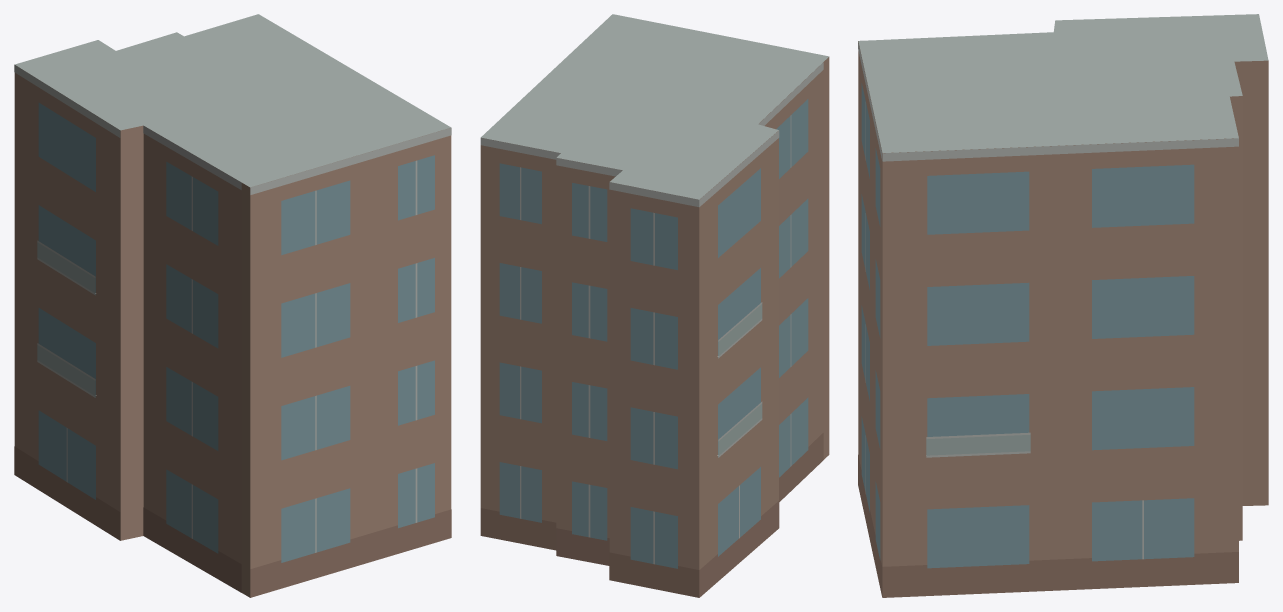
The model's file is survey-upis-32901746.glb.
3 renders of one model, left to right at view 1: azimuth 30°, elevation 25°; view 2: azimuth 150°, elevation 25°; view 3: azimuth 270°, elevation 25°, orthographic. The views are drawn at different scales.
Visible parts, largest first — view 1: survey-upis-32901746.tmp; view 2: survey-upis-32901746.tmp; view 3: survey-upis-32901746.tmp.
Boxes of the visible parts, left/top/right/bottom form: survey-upis-32901746.tmp: left=14, top=14, right=451, bottom=597; survey-upis-32901746.tmp: left=480, top=14, right=829, bottom=597; survey-upis-32901746.tmp: left=858, top=14, right=1268, bottom=597.
Size of the model in its own units: 8.6 by 12.8 by 10.71.
